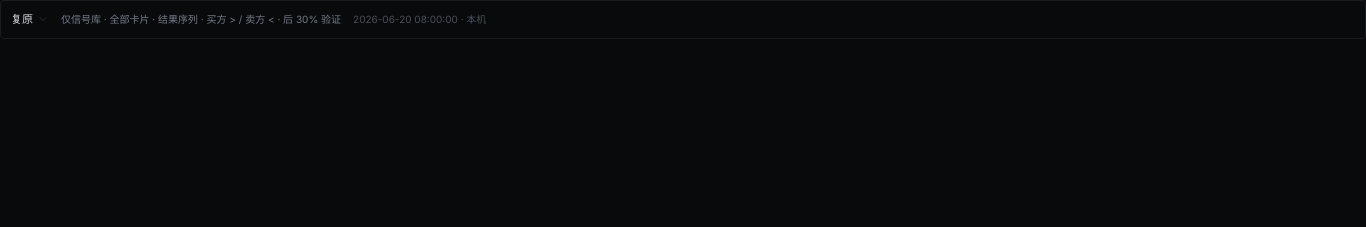
reconstruction report and signal matching › table is folded by default behind a faint toggle after 复原; opening is remembered for the session
Later steps or results of the test are not shown.
Click the button with aria-label "展开复原结果". click: point(30, 19)
box: x1=7 y1=11 x2=53 y2=28
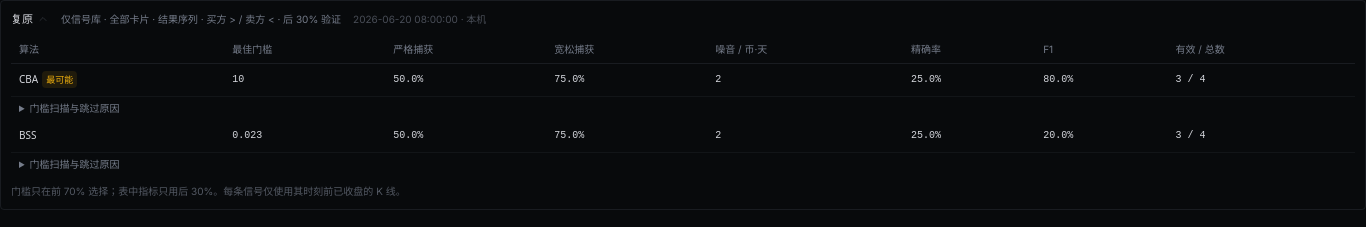
Check: the row with test id "fish-reconstruction-row" that starts with "CBA" is shown, box x1=11 y1=63 x2=1355 y2=96
